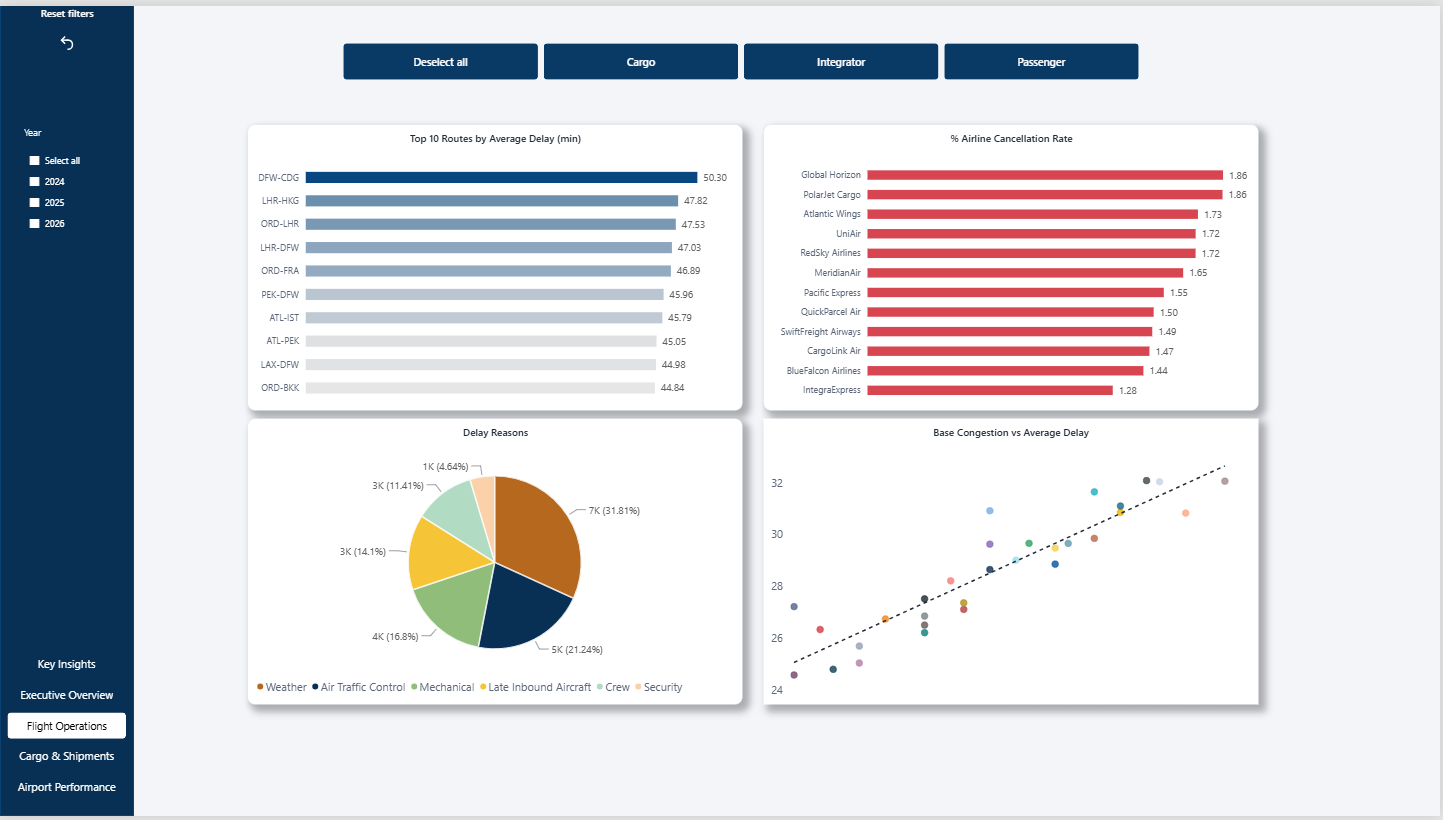

The dashboard page shown, as its layout file describes it:
{"tool":"powerbi","page":{"name":"Flight Operations","canvas":[1920,1080],"ordinal":2},"visuals":[{"type":"shape","box":[0,0,178.6,1080],"z":0},{"type":"clusteredBarChart","title":"Top 10 Routes by Average Delay (min)","fields":{"Category":["flights.Route Name"],"Y":["Measure Table.Avg Delay (Origin+Dest)"]},"box":[329.3,158.6,660,381.2],"z":1000},{"type":"barChart","title":"% Airline Cancellation Rate","fields":{"Category":["airlines.name"],"Y":["Measure Table.CancelledCancellationAirline Cancellation Rate"]},"box":[1018.1,158.7,660,381],"z":2000},{"type":"pieChart","title":"Delay Reasons","fields":{"Category":["flights.delay_reason"],"Y":["Measure Table.Total Flights"]},"box":[329.3,549.2,660,381],"z":3000},{"type":"scatterChart","title":"Base Congestion vs Average Delay","fields":{"Series":["airports.iata_code"],"X":["airports.base_congestion"],"Y":["Measure Table.Avg Delay (Origin+Dest)"]},"box":[1018.1,549.2,660,381],"z":4000},{"type":"advancedSlicerVisual","fields":{"Values":["airlines.carrier_type"]},"box":[458,50,1061.7,48.3],"z":5000},{"type":"slicer","title":"Year","fields":{"Values":["flights.Year"]},"box":[31.4,158.6,120,211.7],"z":6000},{"type":"actionButton","title":"Reset filters","box":[2,0,175,65],"z":7000},{"type":"pageNavigator","box":[10,860,158,200],"z":8000}]}

Visuals, with their boxes on the page's 1920x1080 design canvas (x1, y1, x2, y2). These are canvas units, not pixel positions in the 1443x820 screenshot, which may show the page scaled, cropped or inside an application window:
shape: (0,0,179,1080)
"Top 10 Routes by Average Delay (min)" clusteredBarChart: (329,159,989,540)
"% Airline Cancellation Rate" barChart: (1018,159,1678,540)
"Delay Reasons" pieChart: (329,549,989,930)
"Base Congestion vs Average Delay" scatterChart: (1018,549,1678,930)
advancedSlicerVisual - airlines.carrier_type: (458,50,1520,98)
"Year" slicer: (31,159,151,370)
"Reset filters" actionButton: (2,0,177,65)
pageNavigator: (10,860,168,1060)
